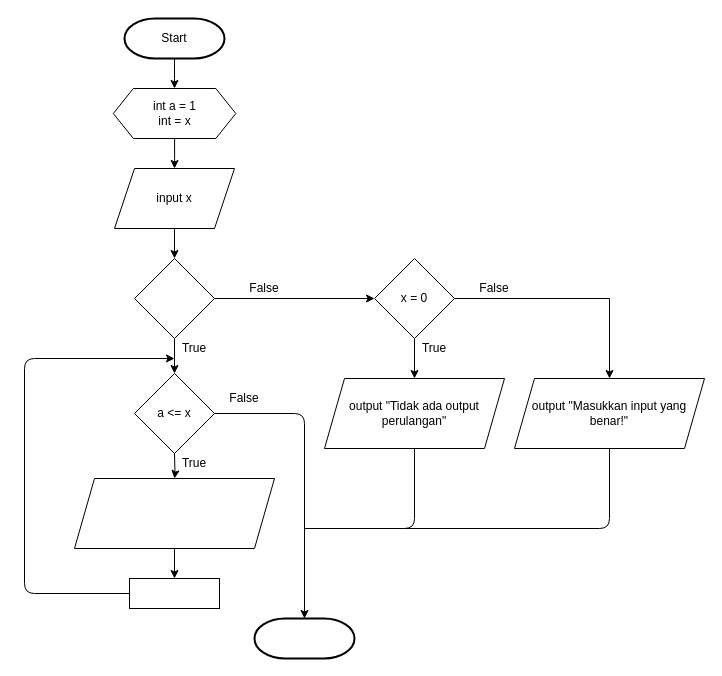
This 722x676 diagram has some shape labels left out. Each missing label, with the centre of its shape:
a++: pixel 174 593
output a, " . 10201001 Adinda Fauzatus Azizah": pixel 174 513
Stop: pixel 304 638
x >= 1: pixel 174 298
